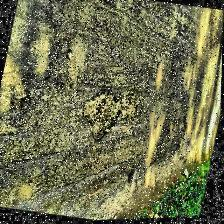pothole: (77, 86, 143, 148)
